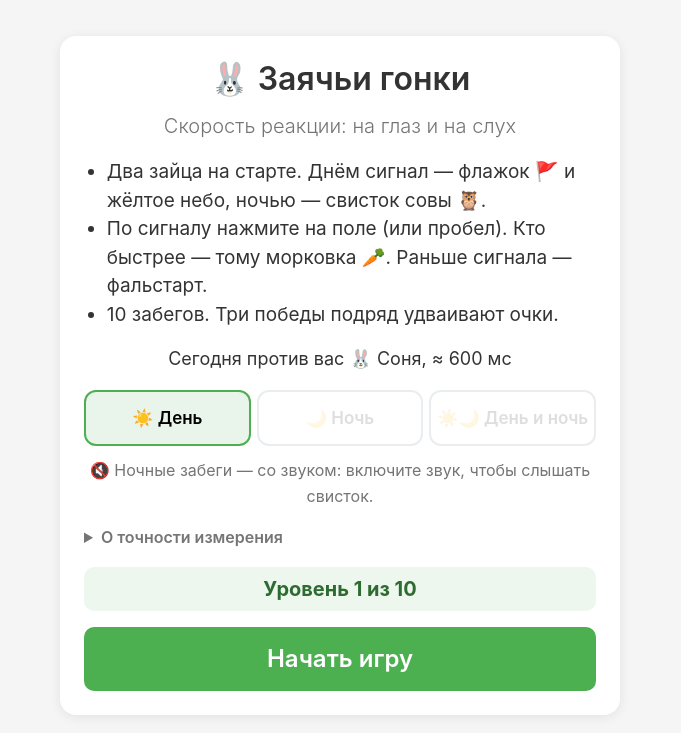
Test case: Hare Race › introduces the opponent; without sound only day races can be chosen
expect the list item "Два зайца на старте" is shown: met, box [107, 160, 575, 212]
expect the text "Сегодня против вас 🐰 Соня, ≈ 600 мс" is shown: met, box [168, 348, 512, 369]
Click the button "Начать игру" at (340,659), box [84, 627, 596, 691]
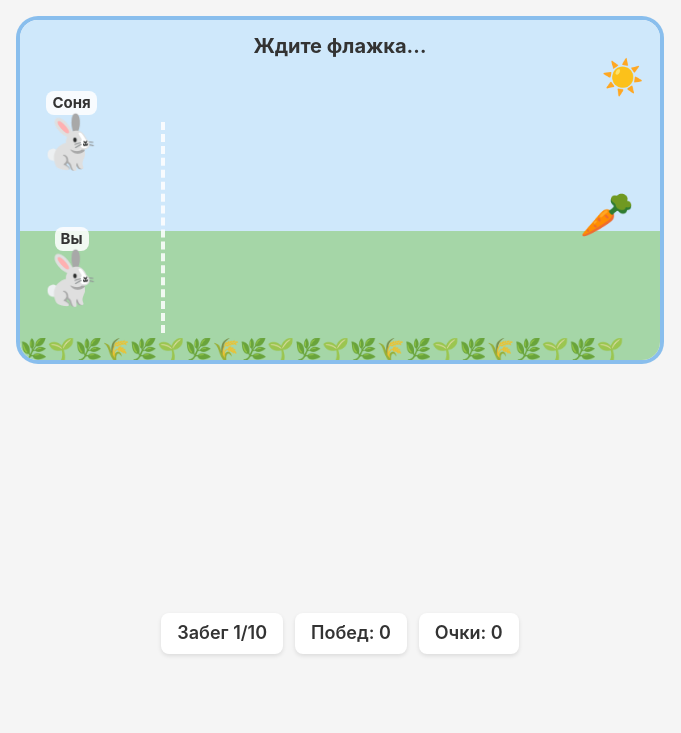
expect the text "Ждите флажка…" is shown: met, box [253, 34, 427, 58]
